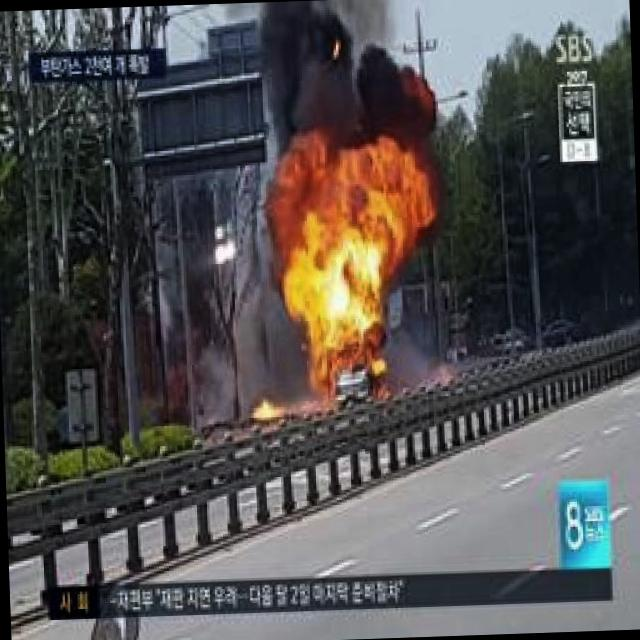fire: (280, 157, 390, 401), (246, 397, 276, 428)
